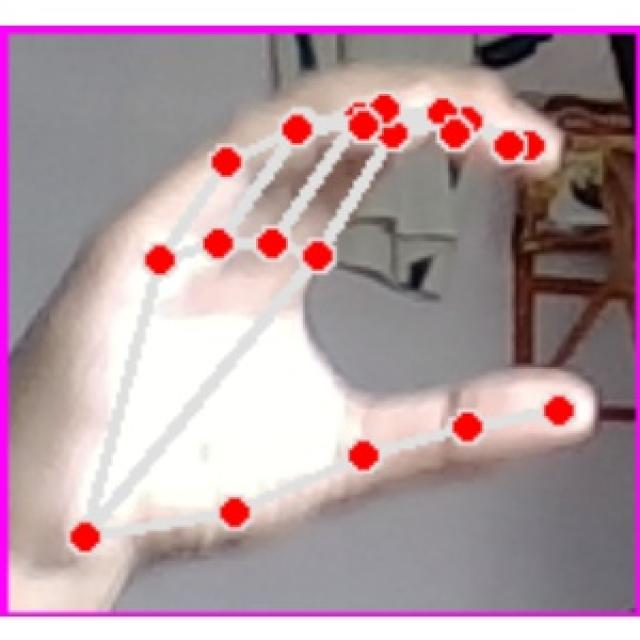C: (25, 57, 614, 579)
